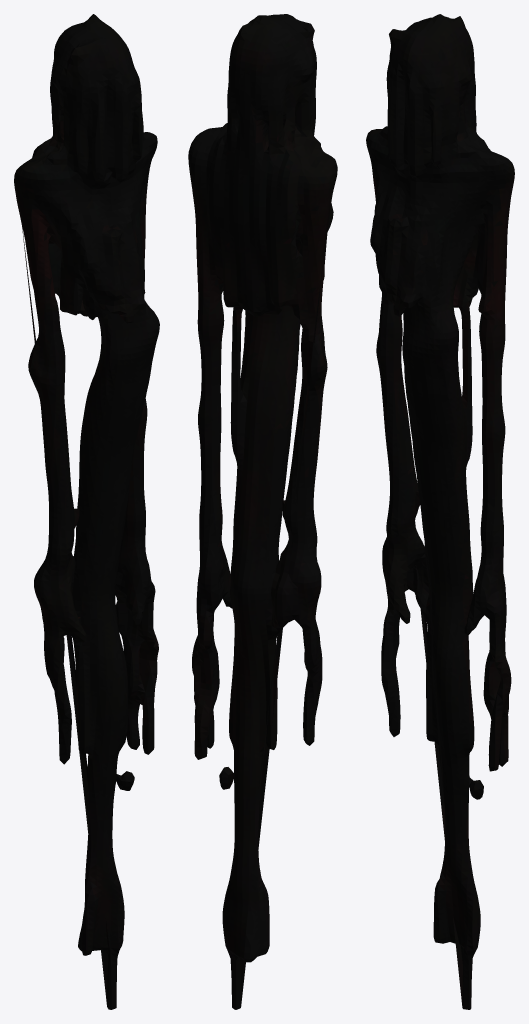
The model's file is garak_horror6.glb.
The picture shows the model from 3 angles, left to right: view 1: azimuth 30°, elevation 25°; view 2: azimuth 150°, elevation 25°; view 3: azimuth 330°, elevation 25°; orthographic projection.
Parts seen in each view (by area): view 1: horror6.obj; view 2: horror6.obj; view 3: horror6.obj.
Boxes of the visible parts, x1,y1,x2,y2 form: horror6.obj: (14,14,159,1009); horror6.obj: (188,14,337,1009); horror6.obj: (366,14,514,1009).
Size of the model in its own units: 0.1669 by 1.13 by 0.1289.
1 material, 1 textured.
